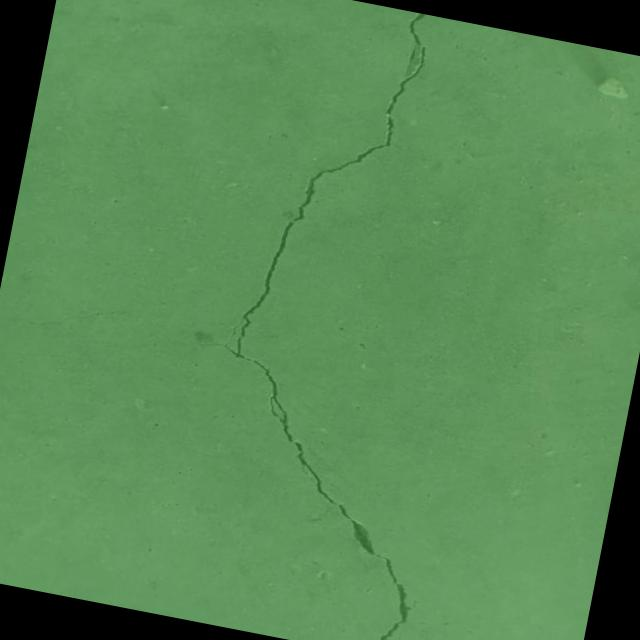crack: (84, 0, 573, 640), (0, 287, 146, 346), (458, 629, 581, 640)
